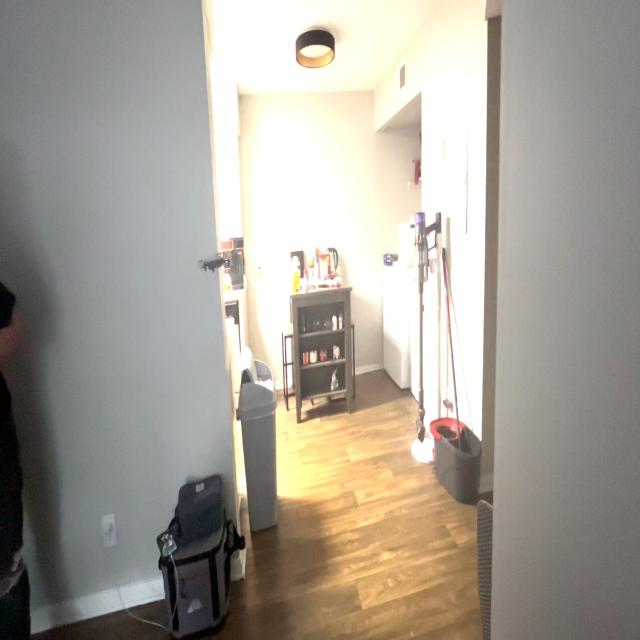drone: (191, 237, 250, 296)
